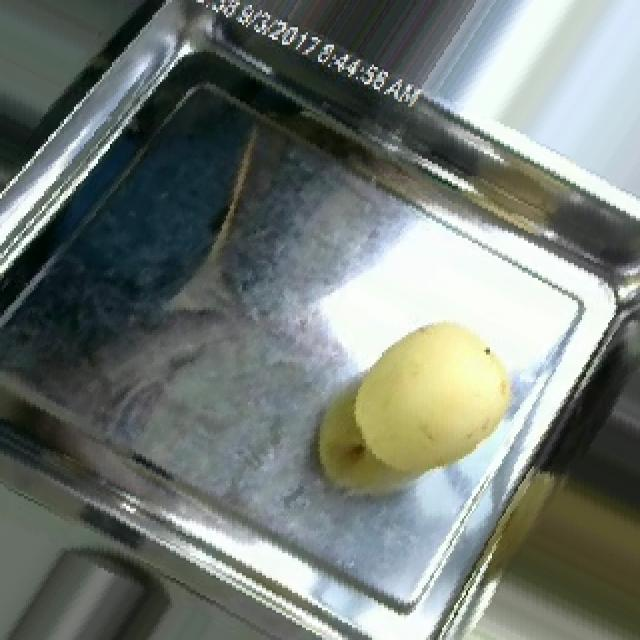Fruit: (314, 303, 540, 521), (0, 526, 174, 640)
